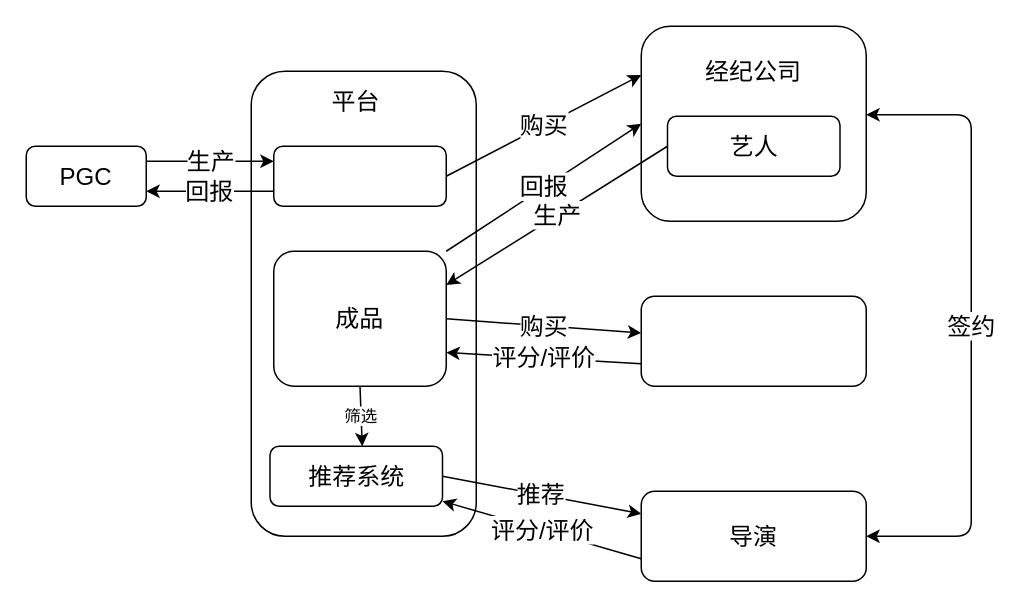
Image size: 1022x608. Some labels were removed from this diagram. Here are the shapes that lost their labels. From the top down, the centre of each, then its label:
At point 359,175: "半成品".
At point 753,340: "用户".
